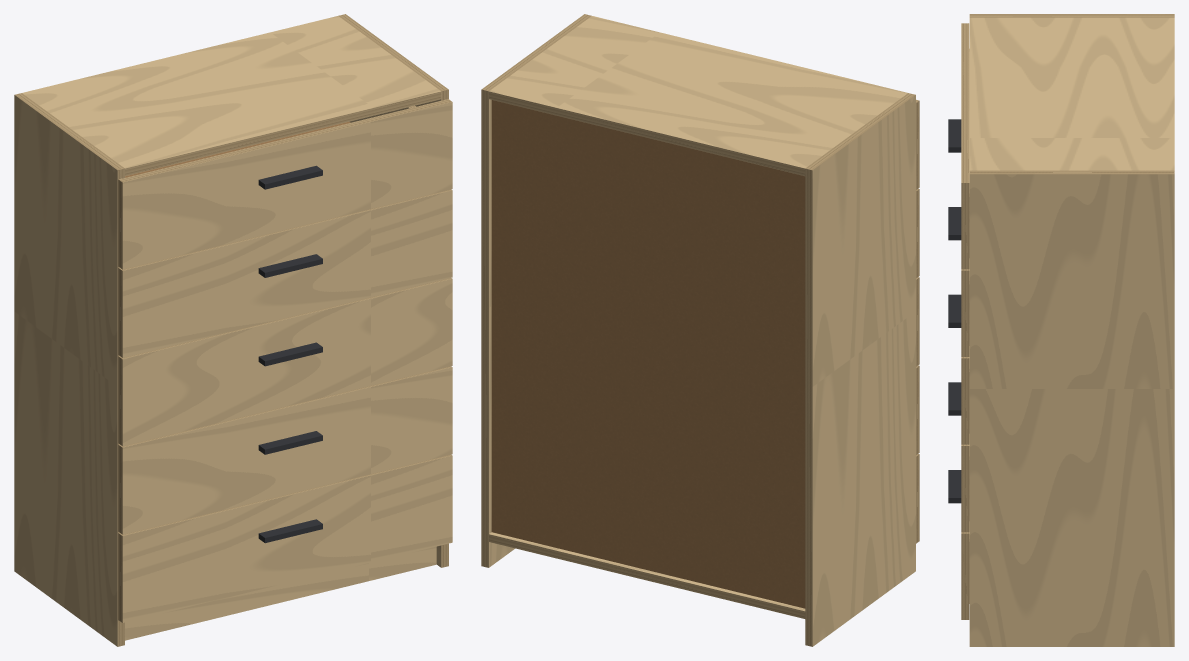
File: SAB-CHT-tall.glb
The picture shows the model from 3 angles, left to right: view 1: azimuth 30°, elevation 25°; view 2: azimuth 150°, elevation 25°; view 3: azimuth 270°, elevation 25°; orthographic projection.
Parts seen in each view (by area): view 1: side-l:sheet:eyJtIjoicGx5Iiwic2lkZSI6ImZhY2UiLCJzZWVkIjoxLCJ, top:sheet:eyJtIjoicGx5Iiwic2lkZSI6ImZhY2UiLCJzZWVkIjo2LCJ2ZW, d2-front:sheet:eyJtIjoicGx5Iiwic2lkZSI6ImZhY2UiLCJzZWVkIjo2L, d4-front:sheet:eyJtIjoicGx5Iiwic2lkZSI6ImZhY2UiLCJzZWVkIjoyL, d1-front:sheet:eyJtIjoicGx5Iiwic2lkZSI6ImZhY2UiLCJzZWVkIjoyL, d3-front:sheet:eyJtIjoicGx5Iiwic2lkZSI6ImZhY2UiLCJzZWVkIjowL, d5-front:sheet:eyJtIjoicGx5Iiwic2lkZSI6ImZhY2UiLCJzZWVkIjo2L, plinth:sheet:eyJtIjoicGx5Iiwic2lkZSI6ImZhY2UiLCJzZWVkIjozLCJ, pull, top:sheet:eyJtIjoicGx5Iiwic2lkZSI6ImVkZ2UtbG9uZyIsInNlZWQiOj, d5-front:sheet:eyJtIjoicGx5Iiwic2lkZSI6ImVkZ2UtbG9uZyIsInNlZ, side-l:sheet:eyJtIjoicGx5Iiwic2lkZSI6ImVkZ2UtbG9uZyIsInNlZWQ (+6 smaller); view 2: back:sheet:eyJtIjoibWRmIiwic2lkZSI6ImZhY2UiLCJzZWVkIjo0LCJ0a, side-l:sheet:eyJtIjoicGx5Iiwic2lkZSI6ImZhY2UiLCJzZWVkIjoxLCJ, top:sheet:eyJtIjoicGx5Iiwic2lkZSI6ImZhY2UiLCJzZWVkIjo2LCJ2ZW, side-r:sheet:eyJtIjoicGx5Iiwic2lkZSI6ImVkZ2UtbG9uZyIsInNlZWQ, side-l:sheet:eyJtIjoicGx5Iiwic2lkZSI6ImVkZ2UtbG9uZyIsInNlZWQ, top:sheet:eyJtIjoicGx5Iiwic2lkZSI6ImVkZ2UtbG9uZyIsInNlZWQiOj, bottom:sheet:eyJtIjoicGx5Iiwic2lkZSI6ImVkZ2UtbG9uZyIsInNlZWQ, side-r:sheet:eyJtIjoicGx5Iiwic2lkZSI6ImZhY2UiLCJzZWVkIjozLCJ, bottom:sheet:eyJtIjoicGx5Iiwic2lkZSI6ImZhY2UiLCJzZWVkIjowLCJ, side-r:sheet:eyJtIjoicGx5Iiwic2lkZSI6ImVkZ2UtZW5kIiwic2VlZCI, side-l:sheet:eyJtIjoicGx5Iiwic2lkZSI6ImVkZ2UtZW5kIiwic2VlZCI; view 3: side-r:sheet:eyJtIjoicGx5Iiwic2lkZSI6ImZhY2UiLCJzZWVkIjozLCJ, top:sheet:eyJtIjoicGx5Iiwic2lkZSI6ImZhY2UiLCJzZWVkIjo2LCJ2ZW, pull, d5-front:sheet:eyJtIjoicGx5Iiwic2lkZSI6ImVkZ2UtbG9uZyIsInNlZ, side-r:sheet:eyJtIjoicGx5Iiwic2lkZSI6ImVkZ2UtZW5kIiwic2VlZCI, side-l:sheet:eyJtIjoicGx5Iiwic2lkZSI6ImVkZ2UtZW5kIiwic2VlZCI, d3-front:sheet:eyJtIjoicGx5Iiwic2lkZSI6ImVkZ2UtZW5kIiwic2VlZ, d1-front:sheet:eyJtIjoicGx5Iiwic2lkZSI6ImVkZ2UtZW5kIiwic2VlZ, d2-front:sheet:eyJtIjoicGx5Iiwic2lkZSI6ImVkZ2UtZW5kIiwic2VlZ, d4-front:sheet:eyJtIjoicGx5Iiwic2lkZSI6ImVkZ2UtZW5kIiwic2VlZ, d5-front:sheet:eyJtIjoicGx5Iiwic2lkZSI6ImVkZ2UtZW5kIiwic2VlZ.
Boxes of the visible parts, x1,y1,x2,y2 form: side-l:sheet:eyJtIjoicGx5Iiwic2lkZSI6ImZhY2UiLCJzZWVkIjoxLCJ: (14, 95, 117, 646); top:sheet:eyJtIjoicGx5Iiwic2lkZSI6ImZhY2UiLCJzZWVkIjo2LCJ2ZW: (22, 16, 440, 168); d2-front:sheet:eyJtIjoicGx5Iiwic2lkZSI6ImZhY2UiLCJzZWVkIjo2L: (122, 367, 452, 534); d4-front:sheet:eyJtIjoicGx5Iiwic2lkZSI6ImZhY2UiLCJzZWVkIjoyL: (122, 190, 452, 357); d1-front:sheet:eyJtIjoicGx5Iiwic2lkZSI6ImZhY2UiLCJzZWVkIjoyL: (122, 455, 452, 622); d3-front:sheet:eyJtIjoicGx5Iiwic2lkZSI6ImZhY2UiLCJzZWVkIjowL: (122, 279, 452, 446); d5-front:sheet:eyJtIjoicGx5Iiwic2lkZSI6ImZhY2UiLCJzZWVkIjo2L: (122, 102, 452, 269); plinth:sheet:eyJtIjoicGx5Iiwic2lkZSI6ImZhY2UiLCJzZWVkIjozLCJ: (125, 546, 436, 640); pull: (258, 165, 322, 543); top:sheet:eyJtIjoicGx5Iiwic2lkZSI6ImVkZ2UtbG9uZyIsInNlZWQiOj: (125, 91, 441, 176); d5-front:sheet:eyJtIjoicGx5Iiwic2lkZSI6ImVkZ2UtbG9uZyIsInNlZ: (118, 99, 451, 182); side-l:sheet:eyJtIjoicGx5Iiwic2lkZSI6ImVkZ2UtbG9uZyIsInNlZWQ: (117, 168, 124, 646); back:sheet:eyJtIjoibWRmIiwic2lkZSI6ImZhY2UiLCJzZWVkIjo0LCJ0a: (491, 100, 805, 608); side-l:sheet:eyJtIjoicGx5Iiwic2lkZSI6ImZhY2UiLCJzZWVkIjoxLCJ: (812, 95, 915, 646); top:sheet:eyJtIjoicGx5Iiwic2lkZSI6ImZhY2UiLCJzZWVkIjo2LCJ2ZW: (489, 16, 907, 168); side-r:sheet:eyJtIjoicGx5Iiwic2lkZSI6ImVkZ2UtbG9uZyIsInNlZWQ: (481, 89, 488, 567); side-l:sheet:eyJtIjoicGx5Iiwic2lkZSI6ImVkZ2UtbG9uZyIsInNlZWQ: (805, 168, 812, 646); top:sheet:eyJtIjoicGx5Iiwic2lkZSI6ImVkZ2UtbG9uZyIsInNlZWQiOj: (489, 91, 805, 176); bottom:sheet:eyJtIjoicGx5Iiwic2lkZSI6ImVkZ2UtbG9uZyIsInNlZWQ: (489, 534, 805, 618); side-r:sheet:eyJtIjoicGx5Iiwic2lkZSI6ImZhY2UiLCJzZWVkIjozLCJ: (489, 99, 514, 567); bottom:sheet:eyJtIjoicGx5Iiwic2lkZSI6ImZhY2UiLCJzZWVkIjowLCJ: (489, 532, 805, 611); side-r:sheet:eyJtIjoicGx5Iiwic2lkZSI6ImVkZ2UtZW5kIiwic2VlZCI: (481, 14, 591, 91); side-l:sheet:eyJtIjoicGx5Iiwic2lkZSI6ImVkZ2UtZW5kIiwic2VlZCI: (805, 93, 915, 170); side-r:sheet:eyJtIjoicGx5Iiwic2lkZSI6ImZhY2UiLCJzZWVkIjozLCJ: (969, 174, 1174, 646); top:sheet:eyJtIjoicGx5Iiwic2lkZSI6ImZhY2UiLCJzZWVkIjo2LCJ2ZW: (969, 17, 1174, 170); pull: (948, 119, 961, 503); d5-front:sheet:eyJtIjoicGx5Iiwic2lkZSI6ImVkZ2UtbG9uZyIsInNlZ: (961, 23, 969, 182); side-r:sheet:eyJtIjoicGx5Iiwic2lkZSI6ImVkZ2UtZW5kIiwic2VlZCI: (969, 170, 1174, 174); side-l:sheet:eyJtIjoicGx5Iiwic2lkZSI6ImVkZ2UtZW5kIiwic2VlZCI: (969, 14, 1174, 17); d3-front:sheet:eyJtIjoicGx5Iiwic2lkZSI6ImVkZ2UtZW5kIiwic2VlZ: (961, 358, 969, 444); d1-front:sheet:eyJtIjoicGx5Iiwic2lkZSI6ImVkZ2UtZW5kIiwic2VlZ: (961, 533, 969, 619); d2-front:sheet:eyJtIjoicGx5Iiwic2lkZSI6ImVkZ2UtZW5kIiwic2VlZ: (961, 446, 969, 532); d4-front:sheet:eyJtIjoicGx5Iiwic2lkZSI6ImVkZ2UtZW5kIiwic2VlZ: (961, 270, 969, 356); d5-front:sheet:eyJtIjoicGx5Iiwic2lkZSI6ImVkZ2UtZW5kIiwic2VlZ: (961, 183, 969, 269).
Size of the model in its own units: 0.8 by 1.1 by 0.4769.
109 materials, 108 textured.
